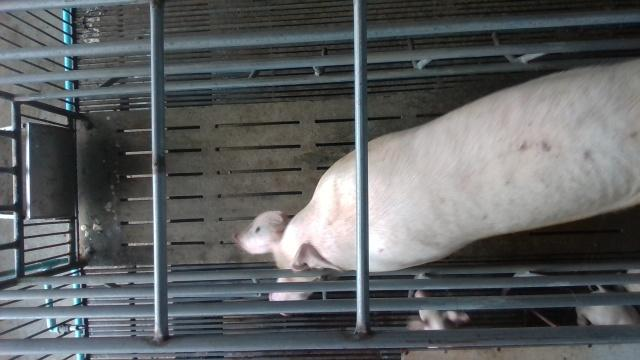piglet: (575, 285, 640, 325)
sow-stand: (232, 59, 640, 316)
